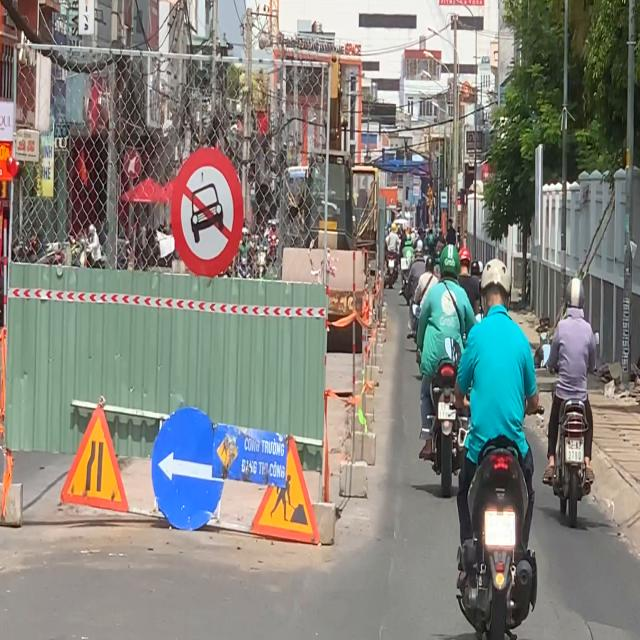Cam con lai: (169, 152, 243, 278)
Nguy hiem: (56, 403, 132, 516)
Re trai: (152, 407, 220, 523)
